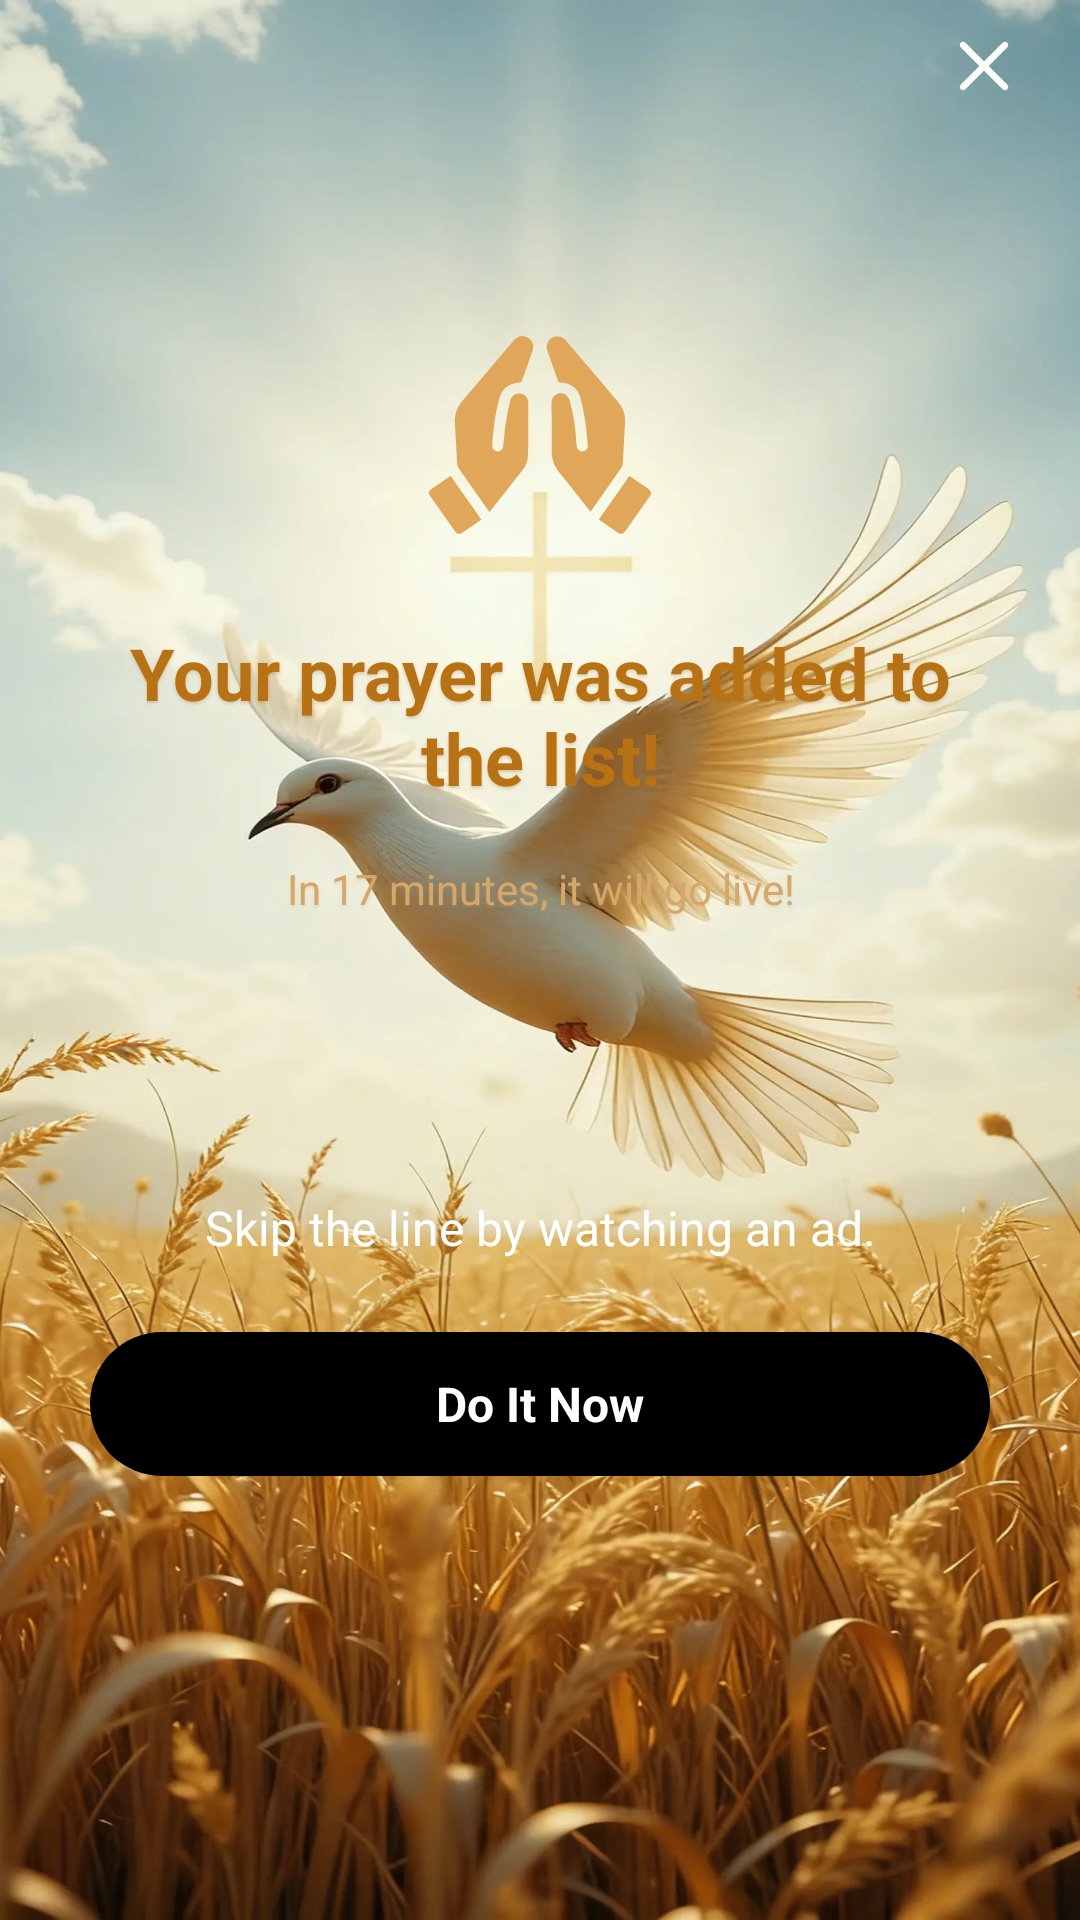

Screen size 1080*1920. Icon name, then its box in pixels as detection(x1, y1, x2, y2):
close: detection(960, 42, 1008, 90)
